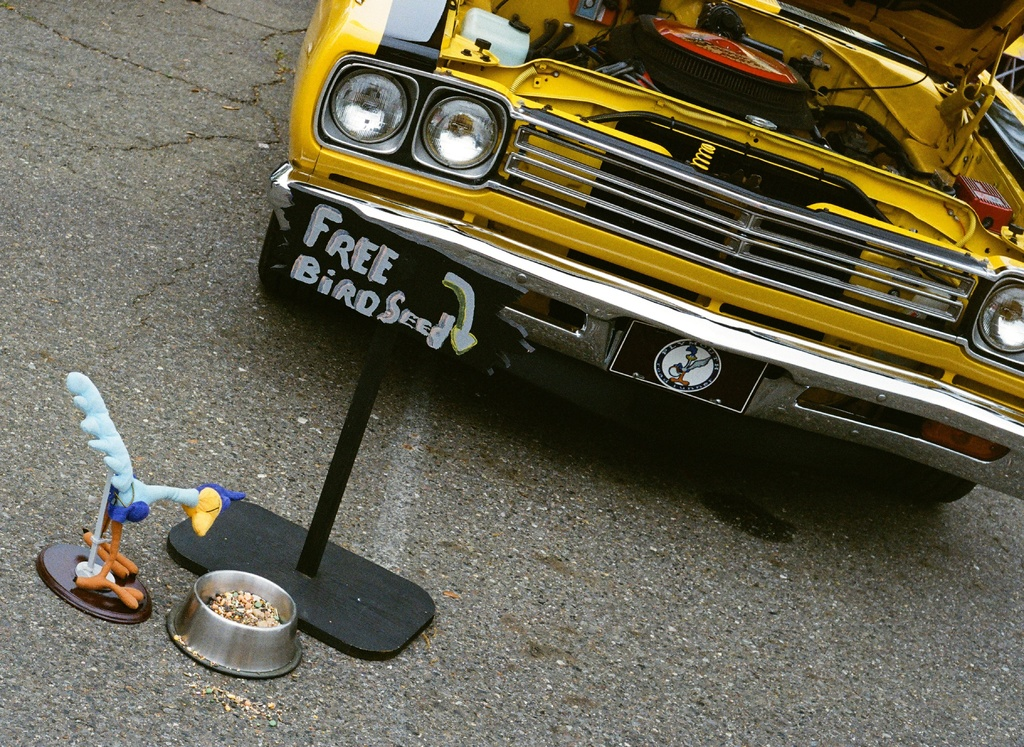Car: (252, 0, 1023, 526)
